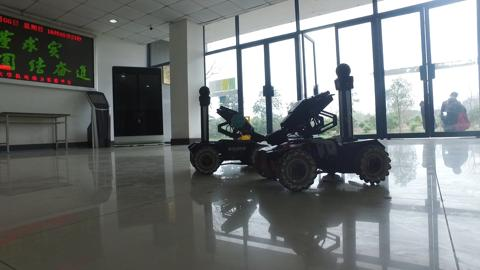chariot: (259, 61, 390, 196), (181, 80, 275, 176)
